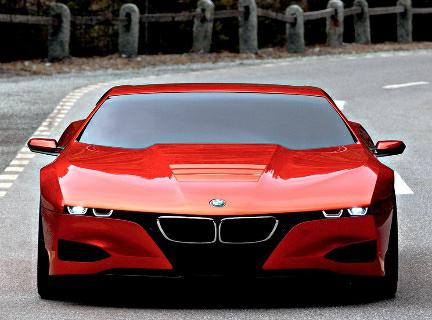宝马-M1: (23, 80, 410, 302)
